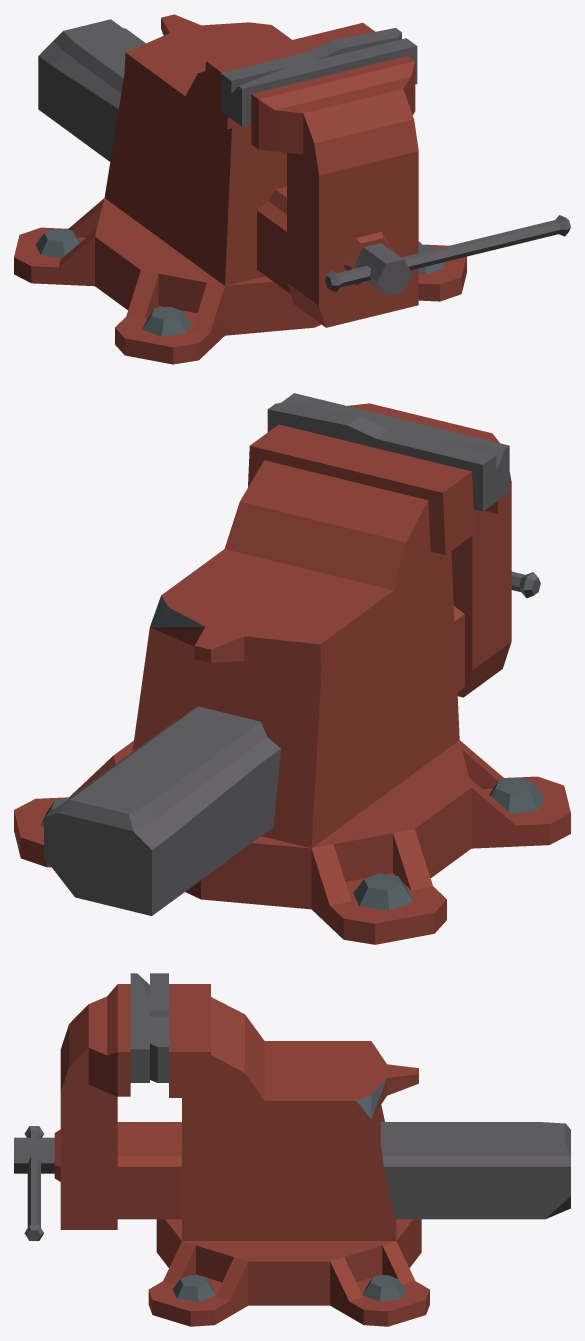
The model's file is SM_Vise.fbx.
3 views of the same model, one above another, from view 1: azimuth 30°, elevation 25°; view 2: azimuth 150°, elevation 25°; view 3: azimuth 270°, elevation 25° (orthographic). The views are drawn at different scales.
Visible parts, largest first — view 1: SM_Vise, SM_Vise_Bracket, SM_Vise_Arm; view 2: SM_Vise, SM_Vise_Bracket; view 3: SM_Vise, SM_Vise_Bracket, SM_Vise_Arm.
Boxes of the visible parts, x1=… form: SM_Vise: x1=14, y1=14, x2=466, y2=364; SM_Vise_Bracket: x1=38, y1=19, x2=418, y2=327; SM_Vise_Arm: x1=325, y1=215, x2=570, y2=295; SM_Vise: x1=14, y1=401, x2=570, y2=944; SM_Vise_Bracket: x1=44, y1=393, x2=511, y2=915; SM_Vise: x1=148, y1=973, x2=429, y2=1326; SM_Vise_Bracket: x1=54, y1=973, x2=570, y2=1229; SM_Vise_Arm: x1=14, y1=1126, x2=54, y2=1240.
Bounding box in the file's own units: 38.65 × 28.75 × 59.04.
